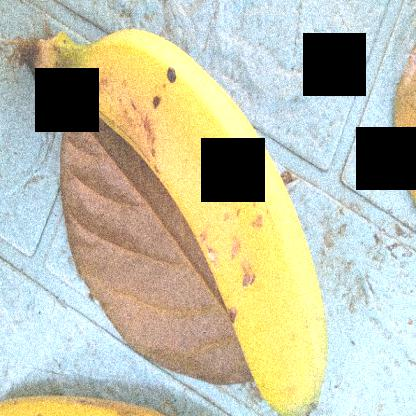ripe: (83, 22, 347, 415)
